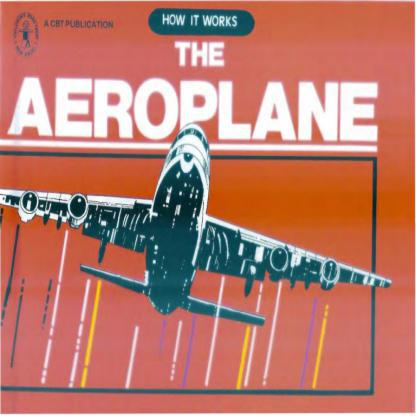CIV_Plane: (1, 121, 394, 329)
